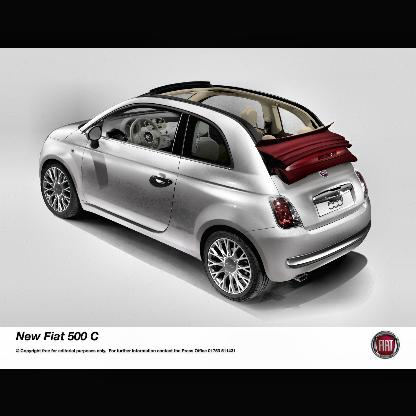FIAT 500 Convertible 2012: (40, 79, 371, 301)
